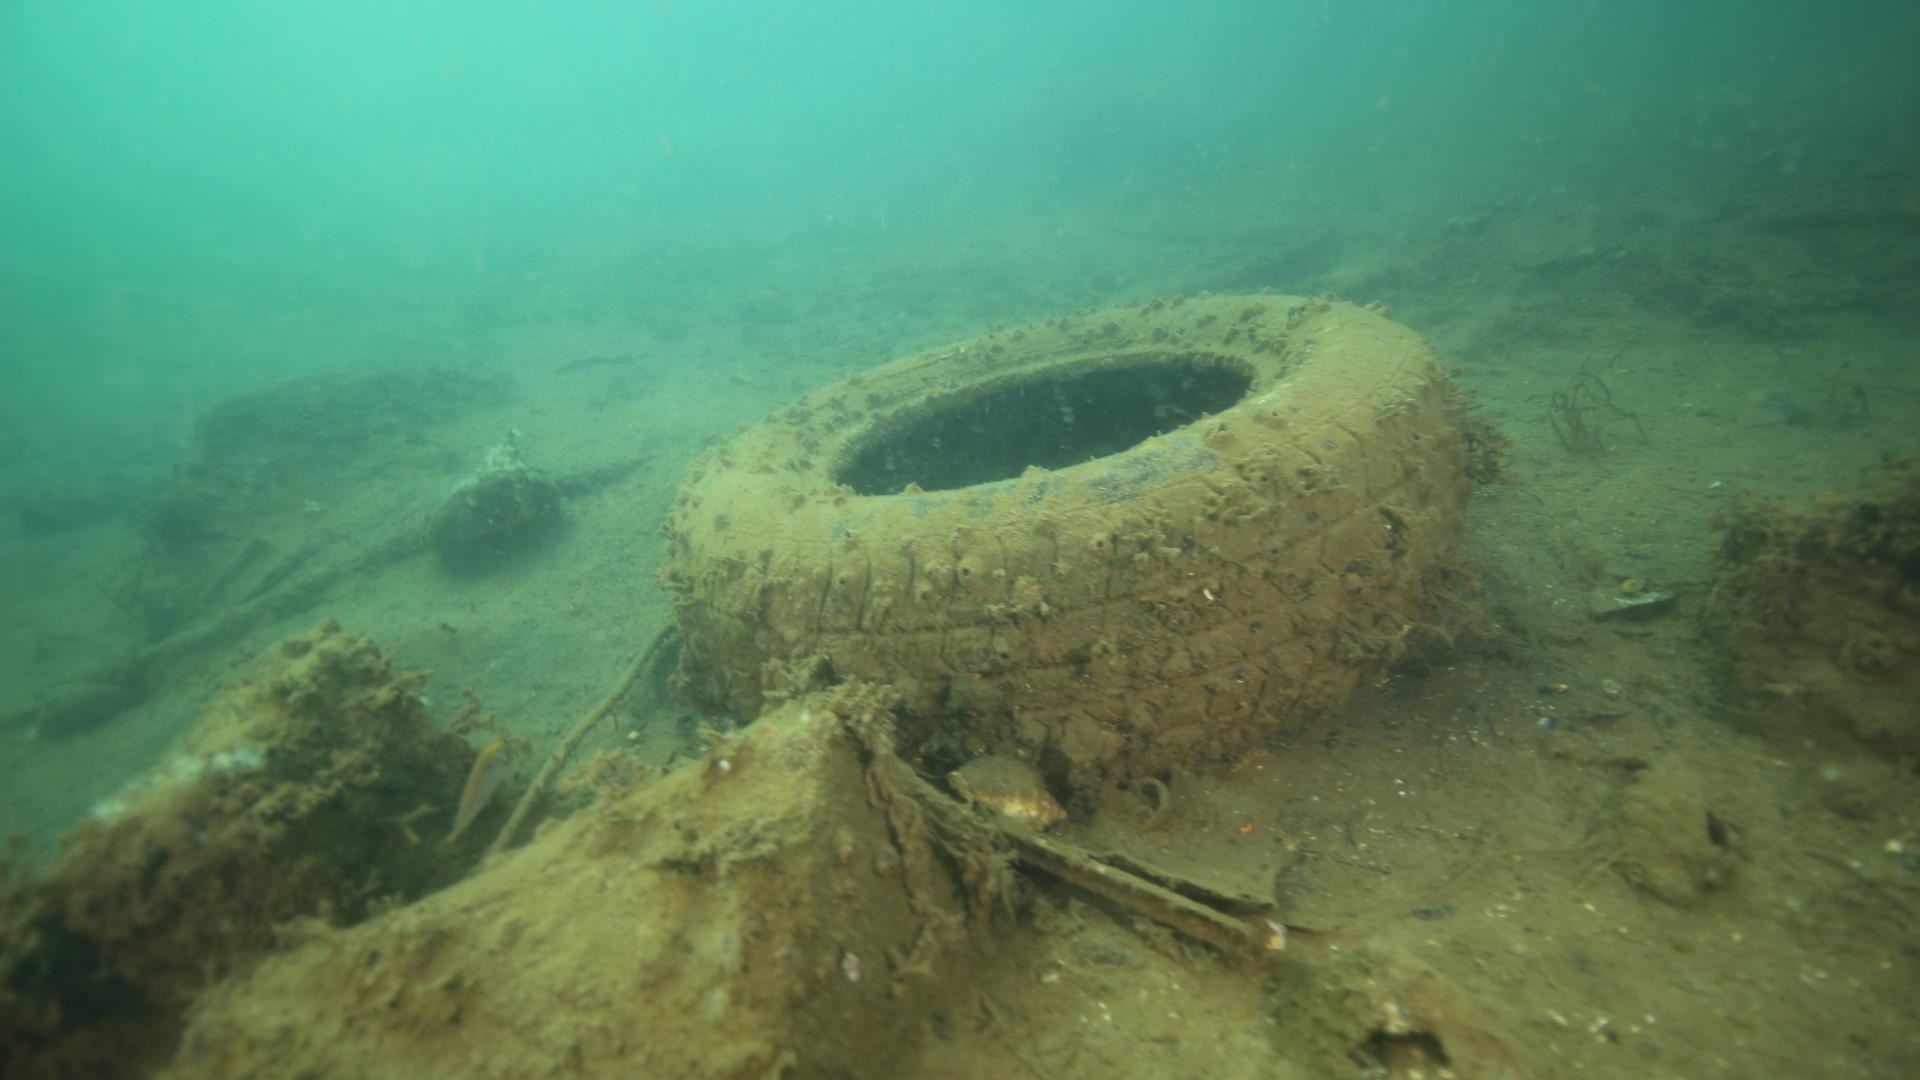tire: (665, 290, 1447, 752)
